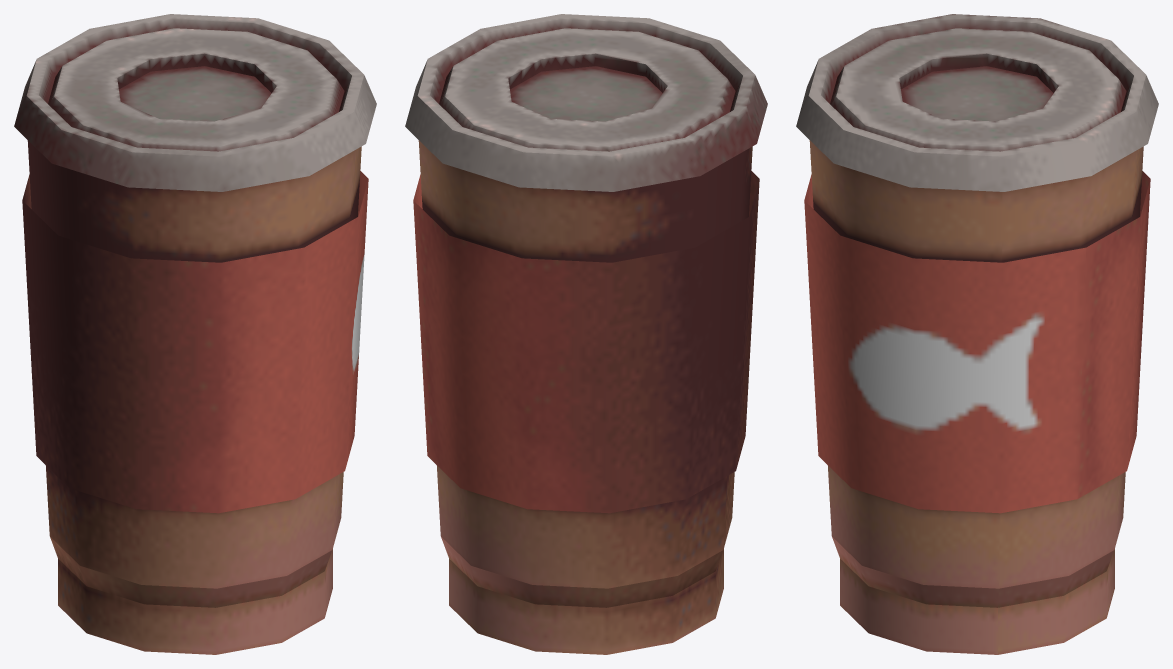
The model's file is coffeestakan.fbx.
The picture shows the model from 3 angles, left to right: view 1: azimuth 30°, elevation 25°; view 2: azimuth 150°, elevation 25°; view 3: azimuth 270°, elevation 25°; orthographic projection.
Parts seen in each view (by area): view 1: polySurface259; view 2: polySurface259; view 3: polySurface259.
Part boxes in pixels (x1,y1,x2,y2): polySurface259: [14, 14, 376, 654]; polySurface259: [405, 14, 767, 654]; polySurface259: [796, 14, 1158, 654].
Bounding box in the file's own units: 0.1707 × 0.2655 × 0.1707.
Materials: 1 (1 with a texture image).
